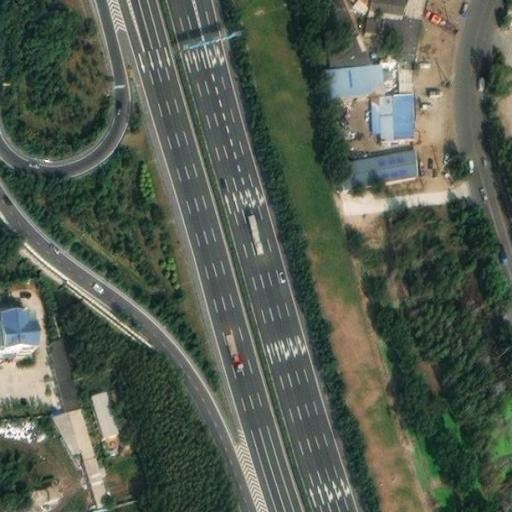building: (344, 143, 417, 181), (369, 83, 416, 134), (50, 334, 82, 408), (50, 404, 95, 453), (327, 56, 386, 92), (0, 311, 39, 349), (83, 449, 112, 500), (92, 384, 117, 432), (27, 479, 62, 508), (0, 414, 38, 439), (402, 12, 420, 51), (361, 13, 381, 36), (405, 0, 424, 12)
